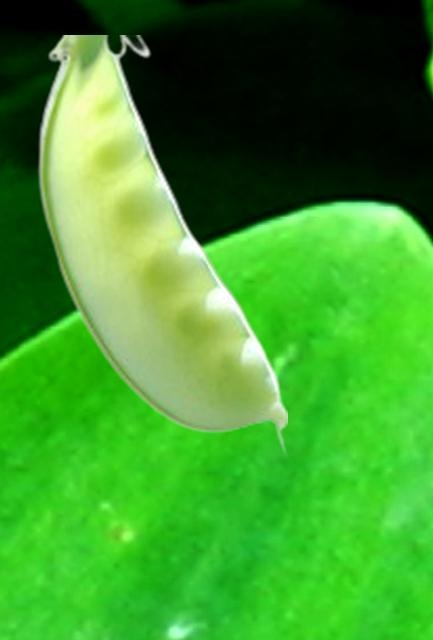pea: (36, 35, 286, 455)
